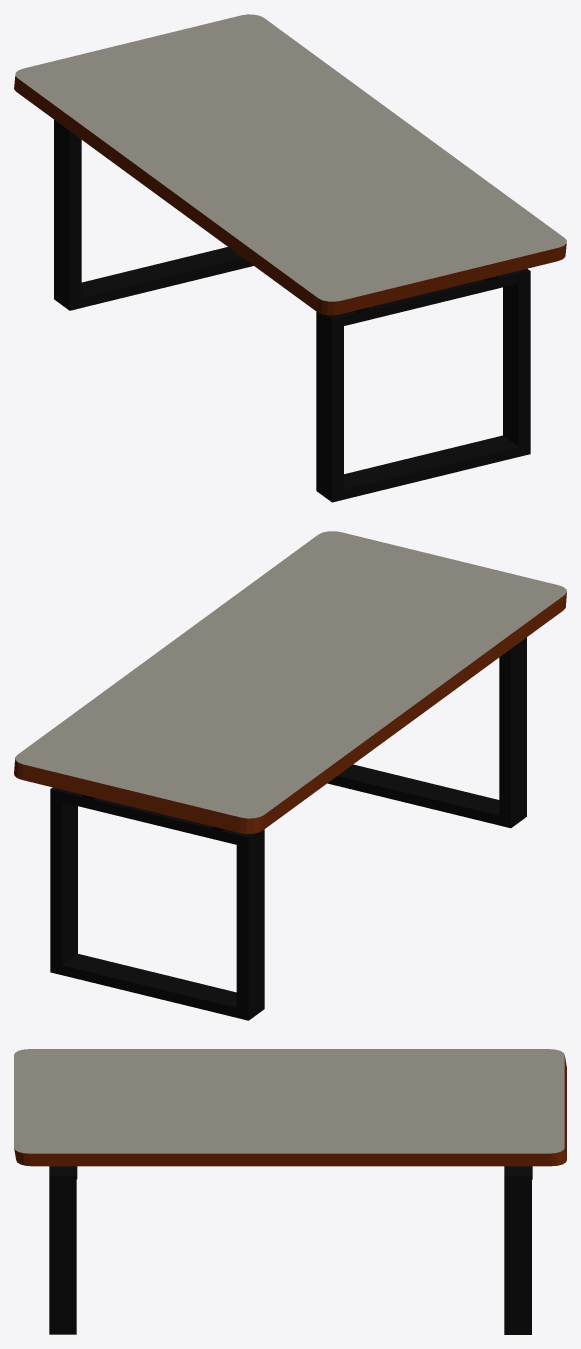
File: Banco (1).fbx
The picture shows the model from 3 angles, top to bottom: view 1: azimuth 30°, elevation 25°; view 2: azimuth 150°, elevation 25°; view 3: azimuth 270°, elevation 25°; orthographic projection. The views are drawn at different scales.
Parts seen in each view (by area): view 1: Cube, Cube.001, Cube.003; view 2: Cube, Cube.003, Cube.001; view 3: Cube, Cube.003, Cube.001.
Part boxes in pixels (bbox=[...]): Cube: bbox=[14, 14, 566, 315]; Cube.001: bbox=[316, 268, 530, 502]; Cube.003: bbox=[54, 119, 253, 310]; Cube: bbox=[14, 531, 566, 833]; Cube.003: bbox=[50, 787, 264, 1020]; Cube.001: bbox=[327, 637, 526, 828]; Cube: bbox=[14, 1049, 566, 1166]; Cube.003: bbox=[504, 1166, 532, 1334]; Cube.001: bbox=[49, 1166, 77, 1334].
Bounding box in the file's own units: 268 × 228 × 599.
